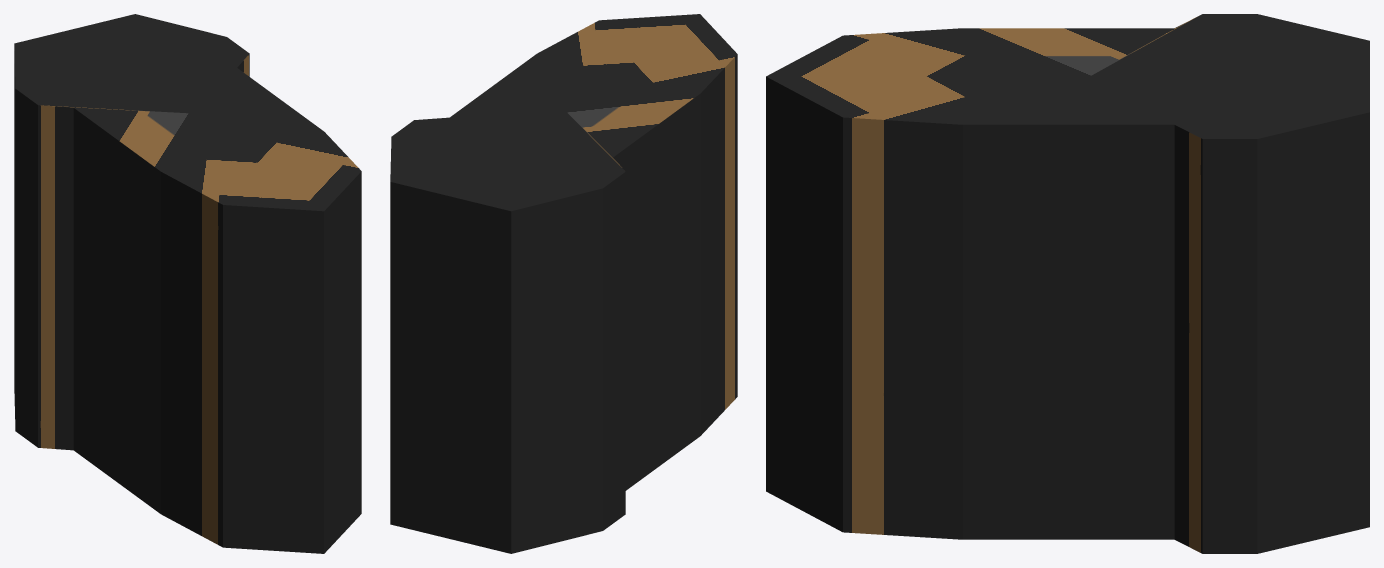
Rendered from Pirate_Ship_COLLIDER.fbx.
3 views of the same model, side by side, from view 1: azimuth 30°, elevation 25°; view 2: azimuth 150°, elevation 25°; view 3: azimuth 270°, elevation 25° (orthographic). The views are drawn at different scales.
Visible parts, largest first — view 1: Object010; view 2: Object010; view 3: Object010.
Boxes of the visible parts, x1,y1,x2,y2 form: Object010: (14,14,361,553); Object010: (390,14,737,553); Object010: (766,14,1369,553).
Bounding box in the file's own units: 99.7 × 154 × 204.
